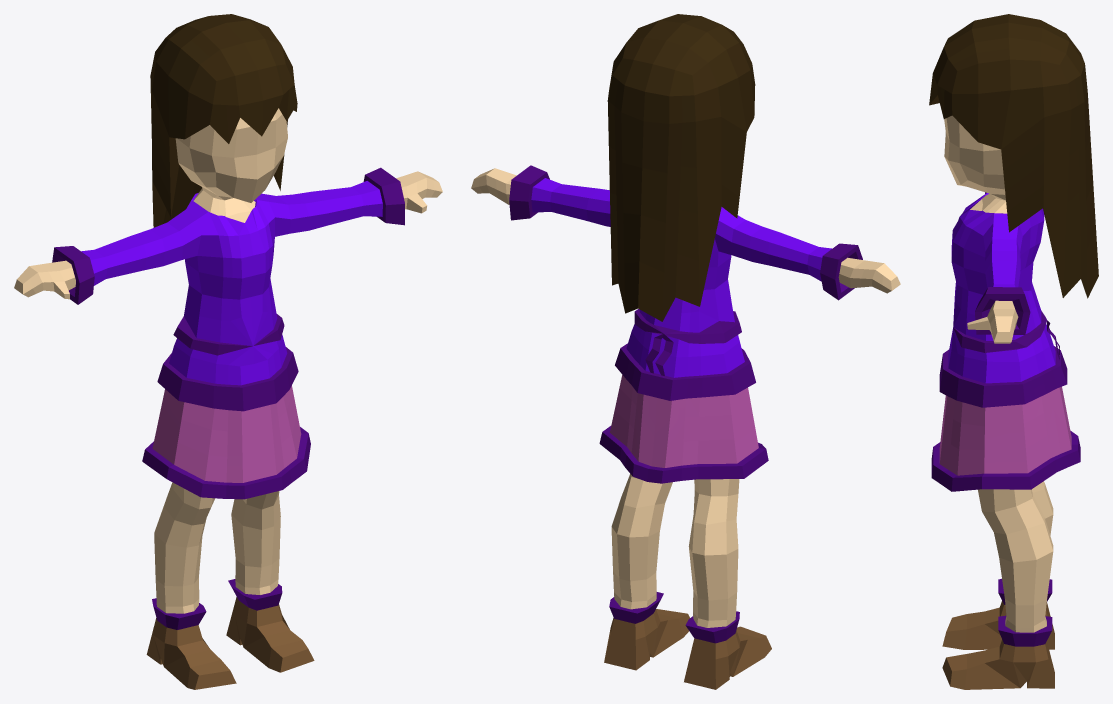
The model's file is Girl1.fbx.
3 views of the same model, side by side, from view 1: azimuth 30°, elevation 25°; view 2: azimuth 150°, elevation 25°; view 3: azimuth 270°, elevation 25° (orthographic).
Visible parts, largest first — view 1: Cube.002; view 2: Cube.002; view 3: Cube.002.
Boxes of the visible parts, box(x1,y1,x2,y2) form: Cube.002: box(14, 14, 442, 689); Cube.002: box(471, 14, 900, 689); Cube.002: box(929, 14, 1098, 689).
Bounding box in the file's own units: 23466 × 33901 × 8172.
